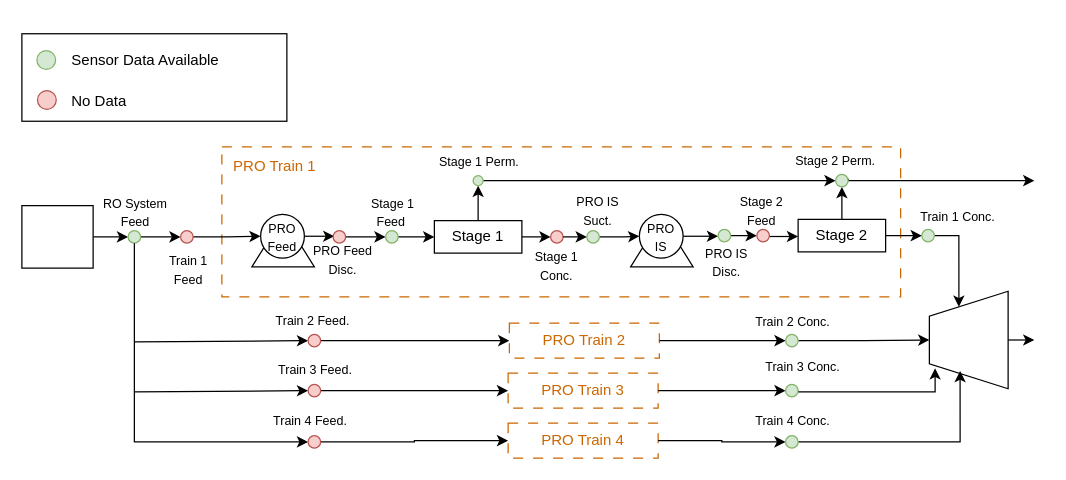
Some shapes in this 1066 by 480 pixel diagram are drawn without their labels. Each missing label, with the centre of its shape:
RO Header: (x=57, y=236)
TSRO Header: (x=968, y=339)
